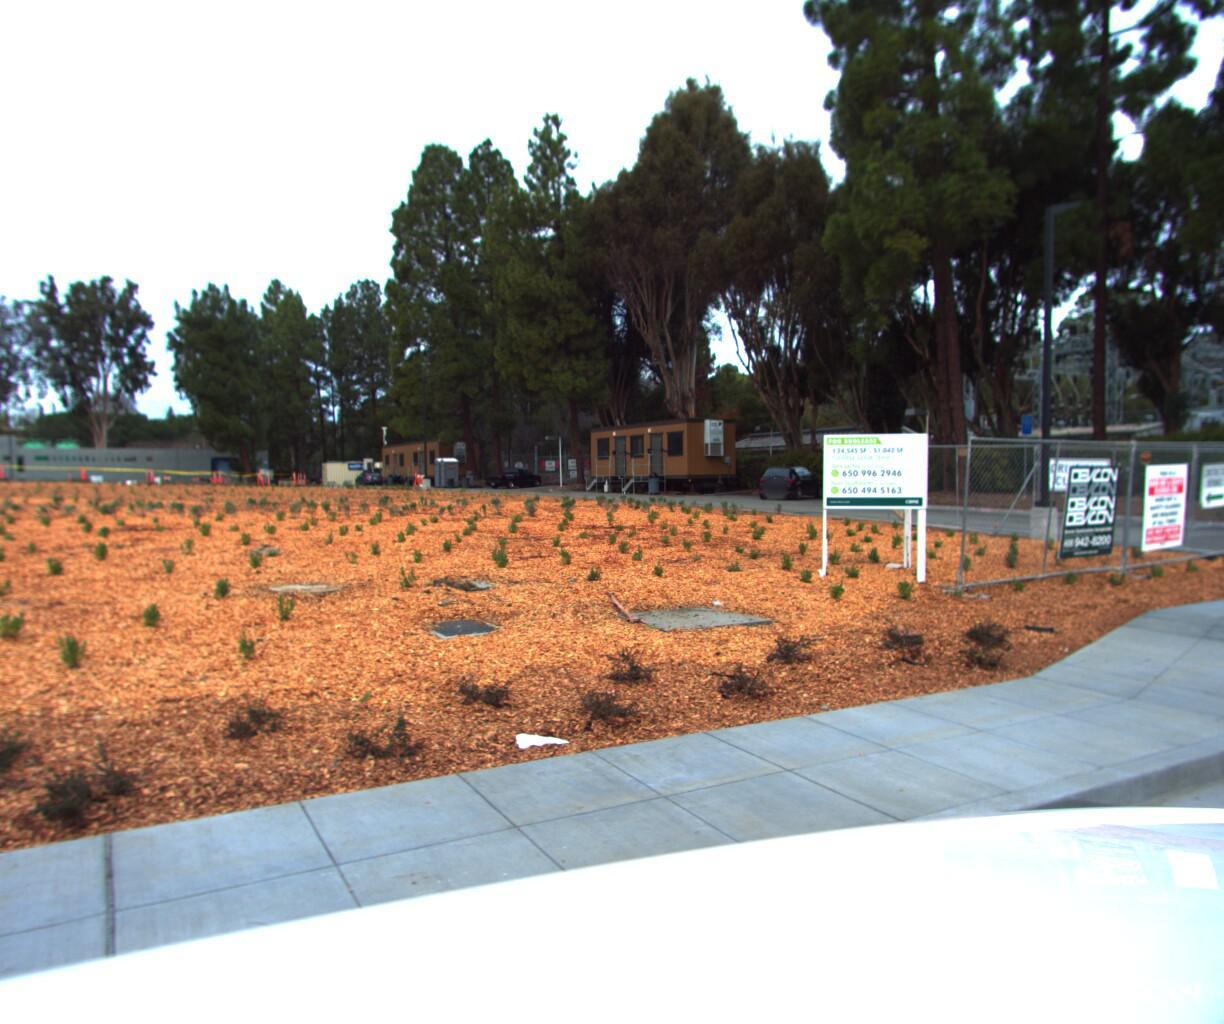car: (754, 456, 830, 495), (481, 468, 540, 491), (346, 472, 384, 490)
